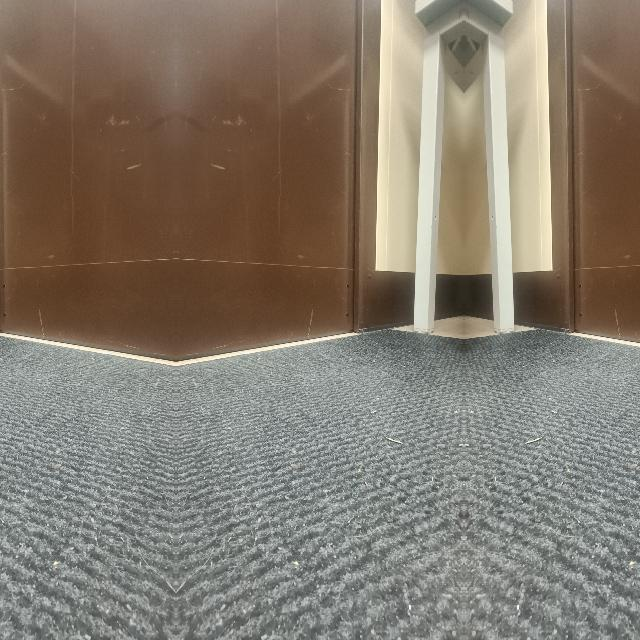obstacle: (409, 165, 443, 338), (485, 165, 519, 338)
